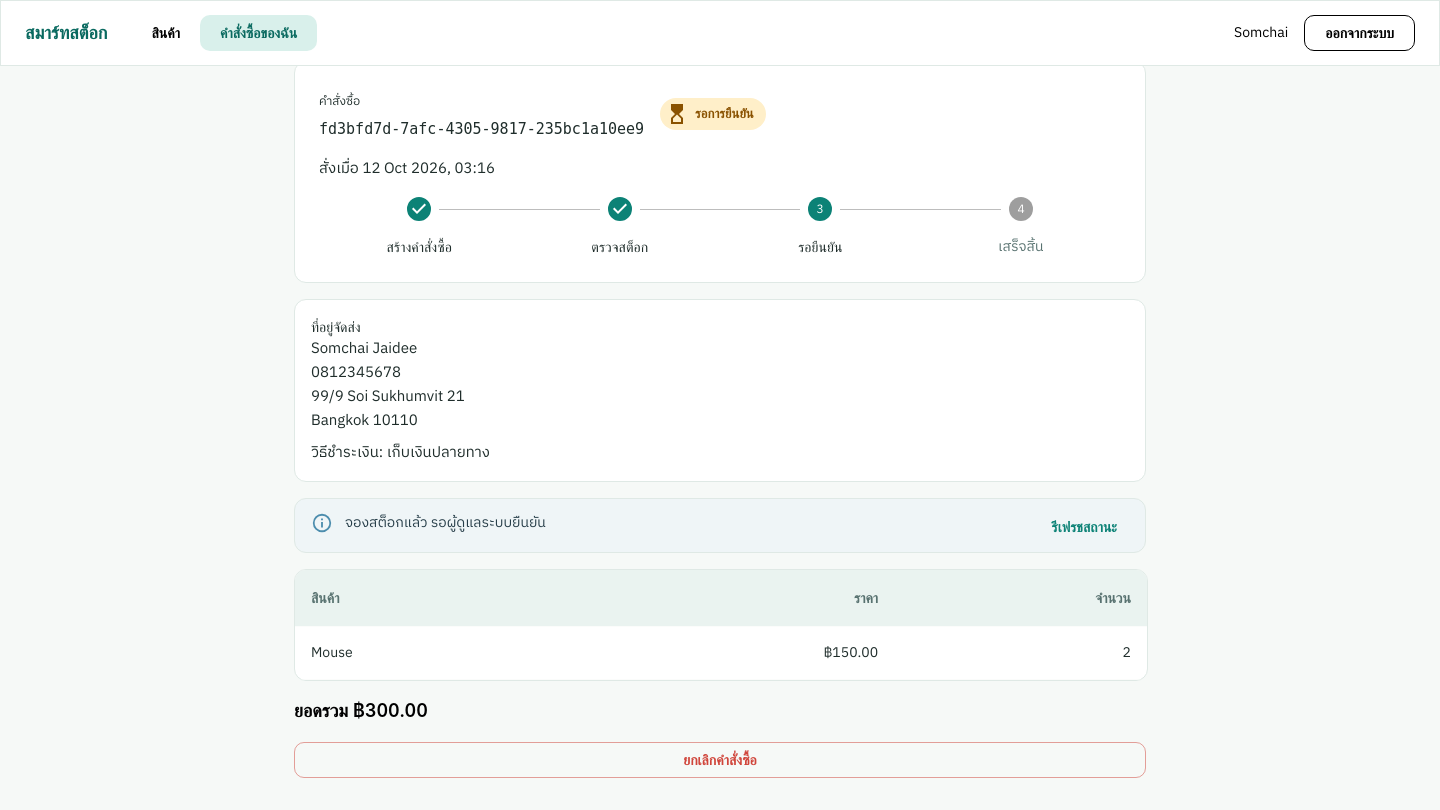
it: 409: a user cannot cancel an order that is already confirmed
(page scrolled)
Click the button "ยกเลิกคำสั่งซื้อ" at point(720, 760), box [294,742,1146,778]
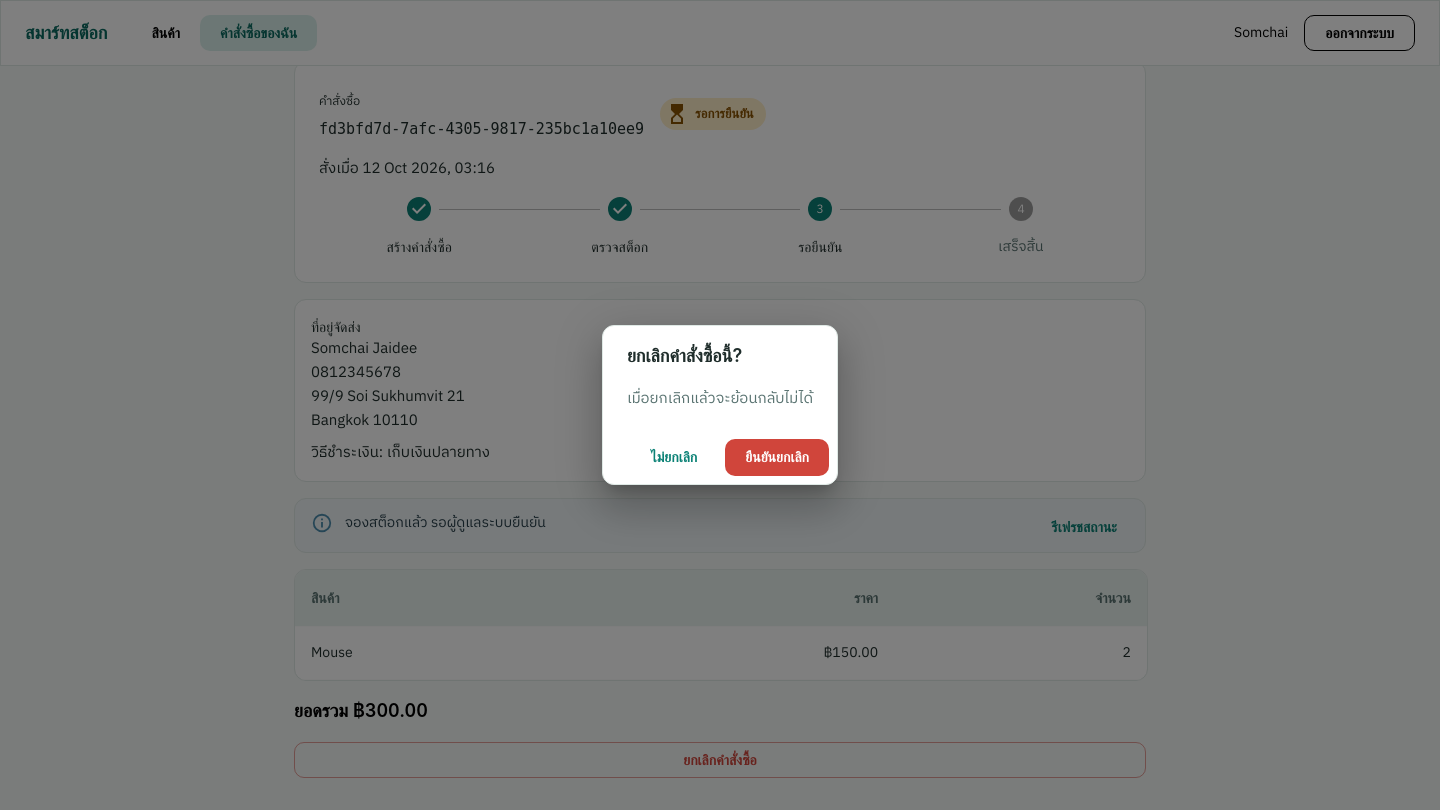
Click the button "ยืนยันยกเลิก" at point(777, 457), box [725,439,829,476]
(page scrolled)
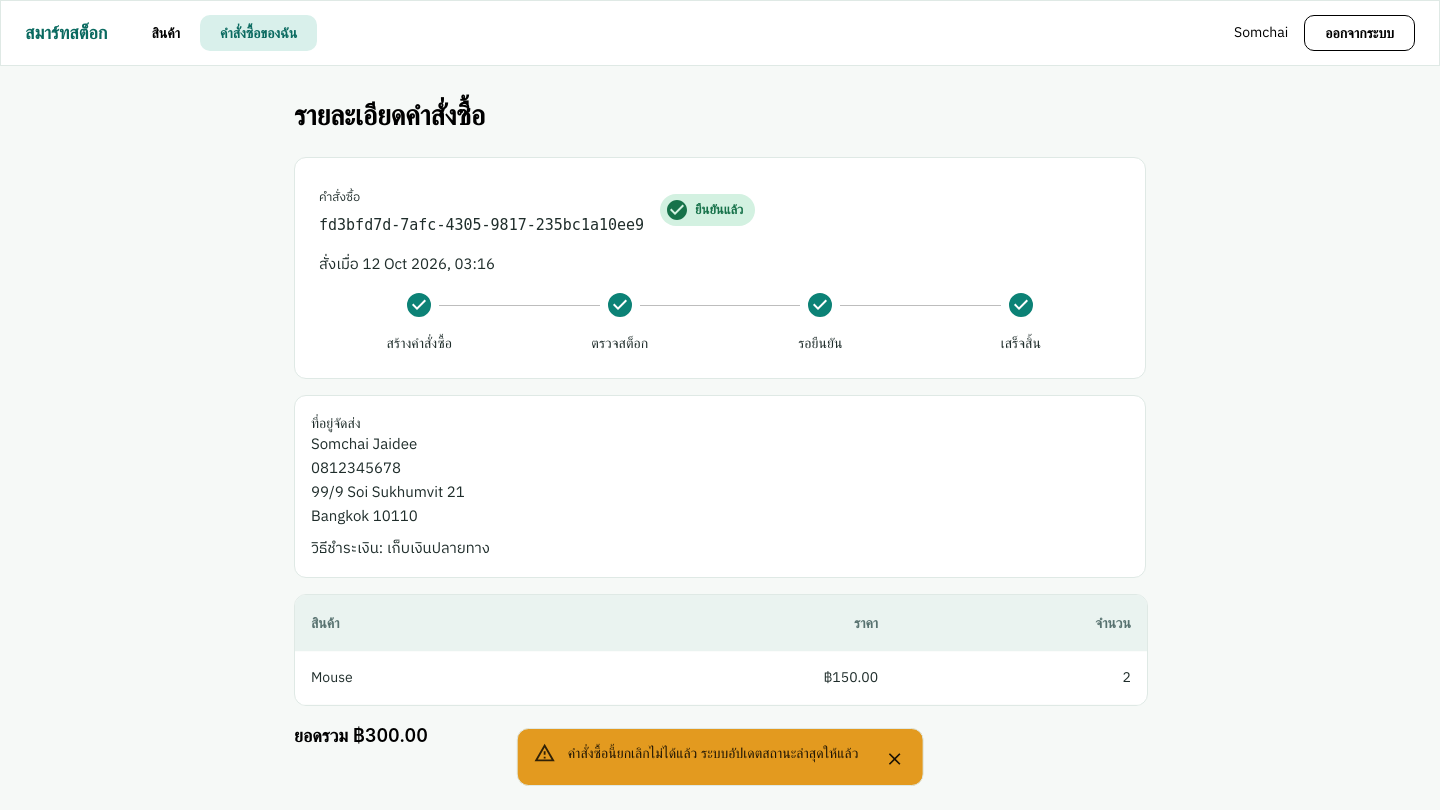
Now the text "คำสั่งซื้อนี้ยกเลิกไม่ได้แล้ว ระบบอัปเดตสถานะล่าสุดให้แล้ว" is shown, box [568,744,858,761]
